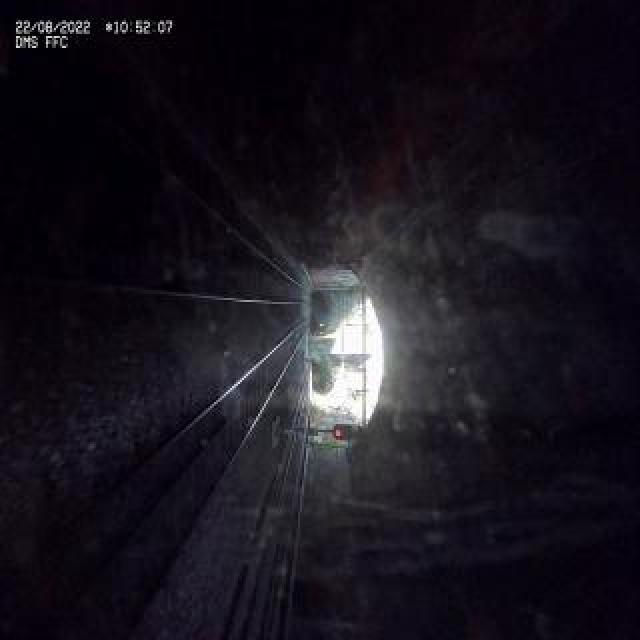Signal-Green: (330, 424, 360, 440)
